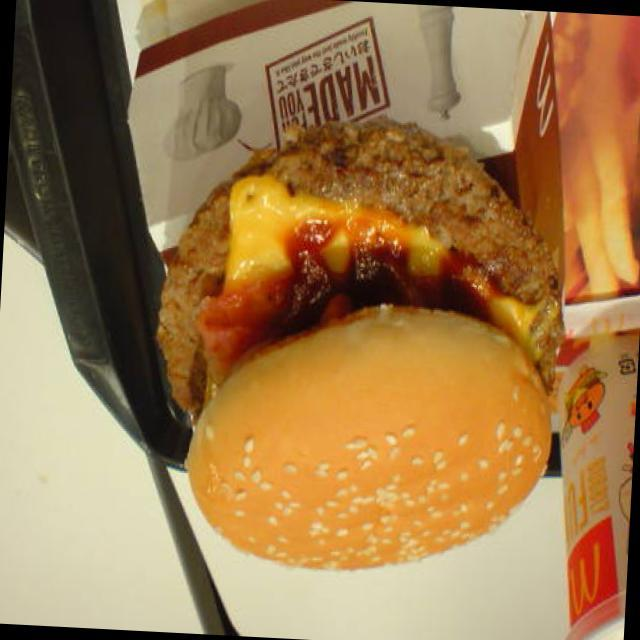Hamburger: (150, 109, 570, 591)
